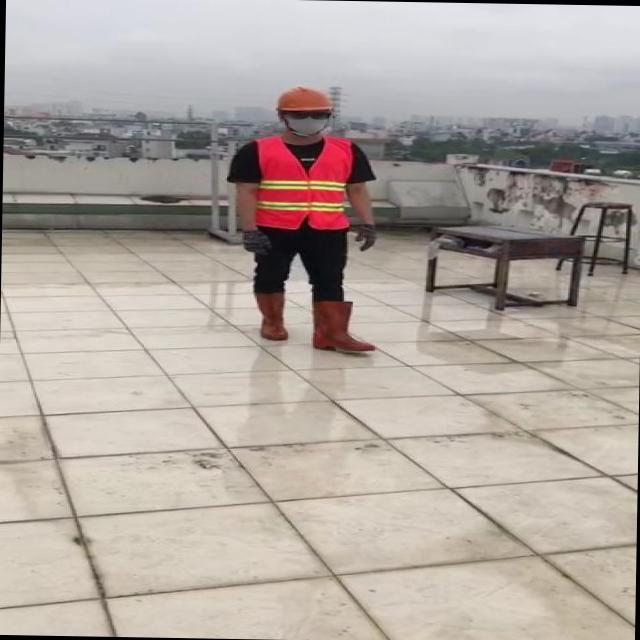boots: (314, 301, 383, 352), (248, 288, 288, 338)
gloves: (344, 211, 391, 261), (229, 223, 278, 259)
helmet: (272, 83, 340, 113)
vest: (254, 134, 352, 232)
